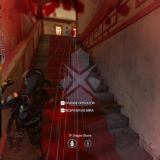Character: (0, 67, 54, 160), (65, 26, 71, 36)
Head: (22, 68, 45, 92), (66, 27, 68, 30)
